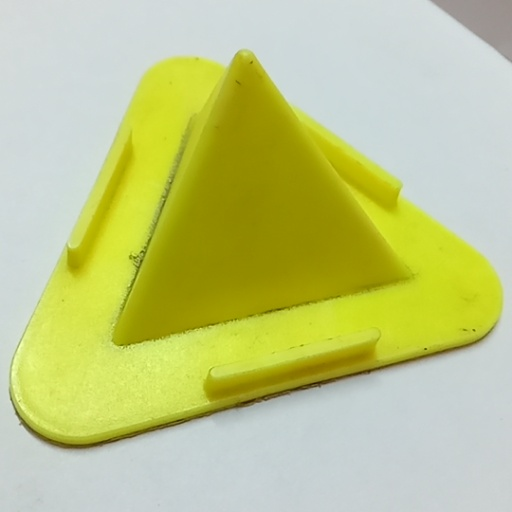yellow_cone: (13, 50, 501, 448)
